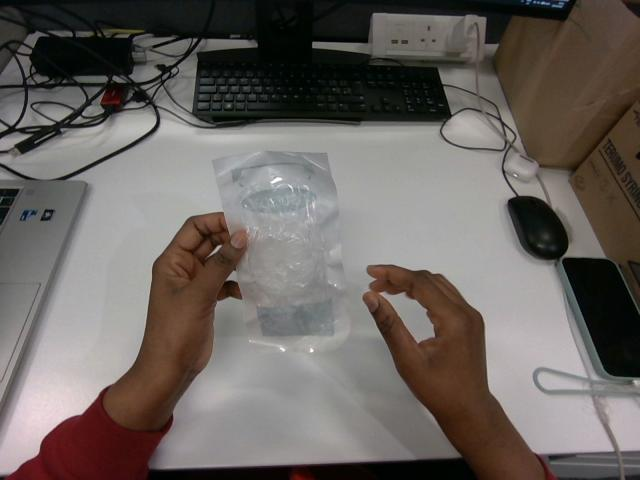gallipot: (213, 151, 349, 351)
